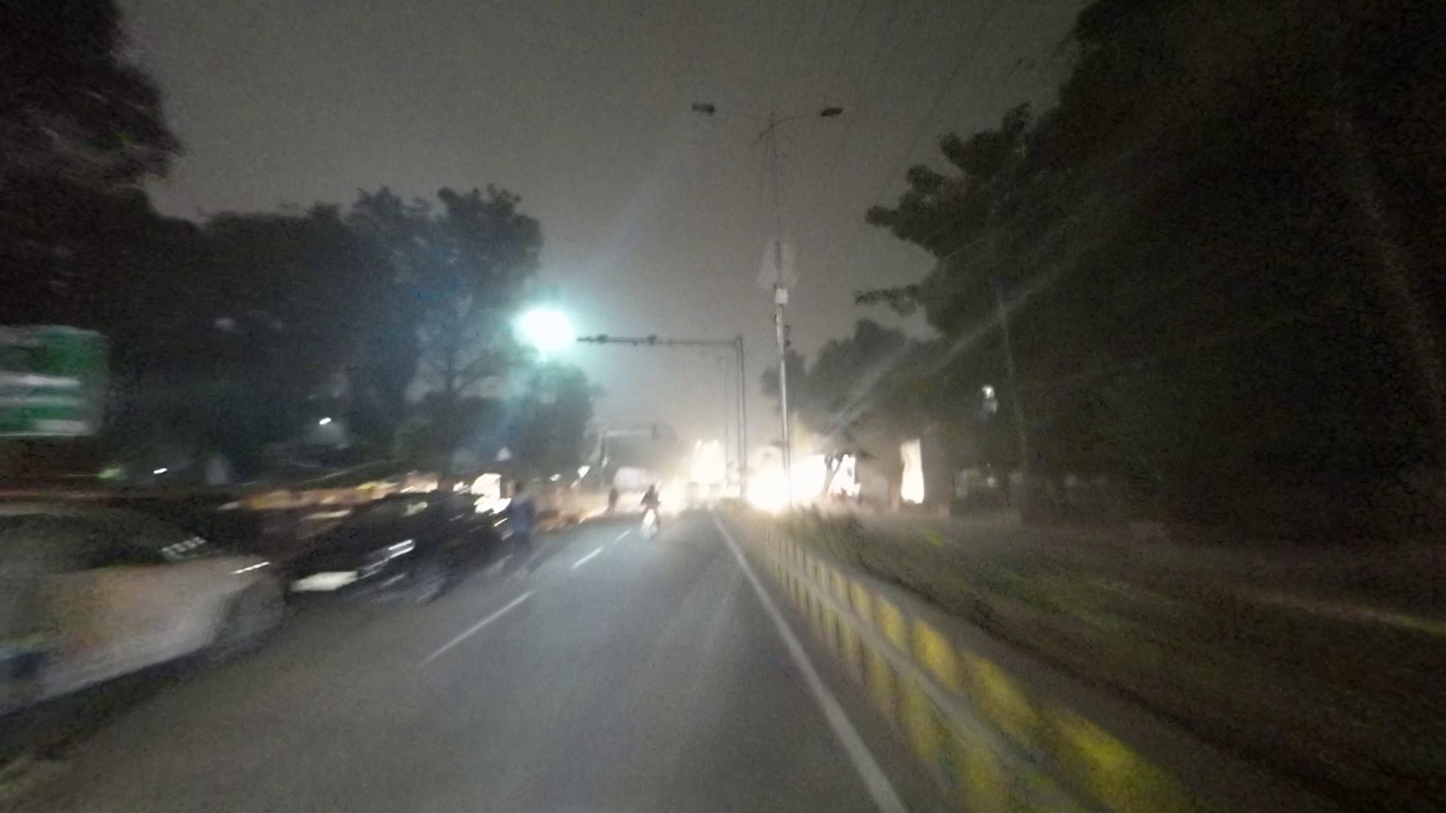streetlight: (690, 100, 766, 124), (778, 103, 846, 125)
